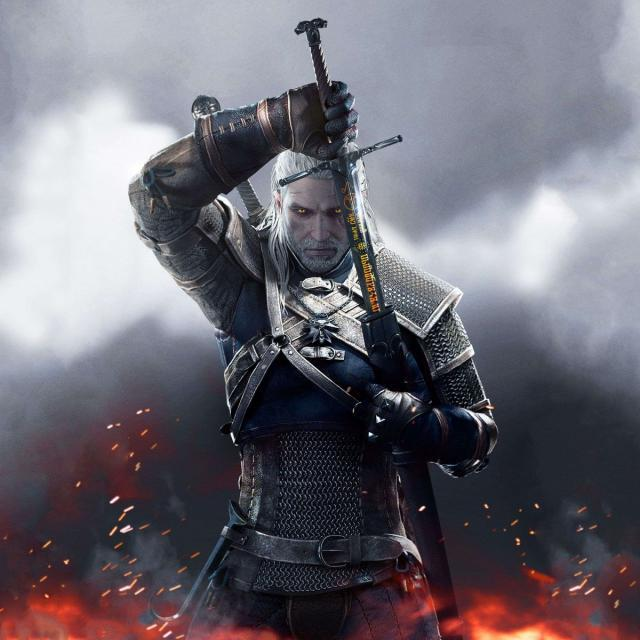sword: (278, 18, 406, 328)
